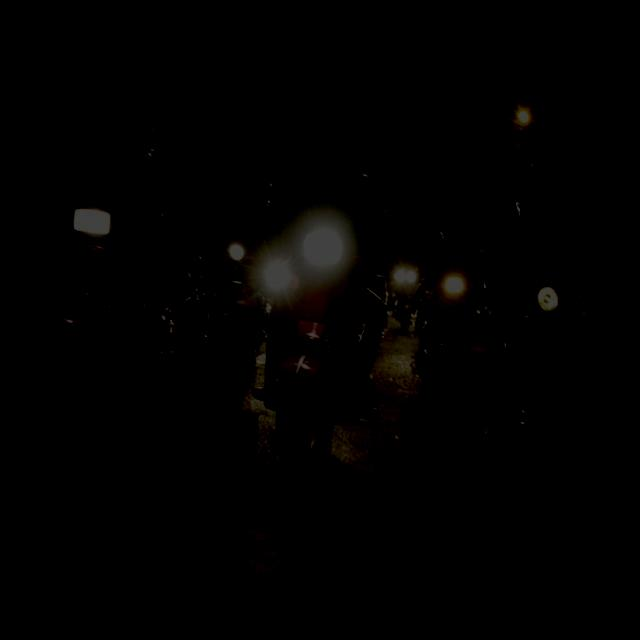Motorbike: (472, 250, 624, 527), (249, 179, 371, 514), (50, 193, 186, 423)
